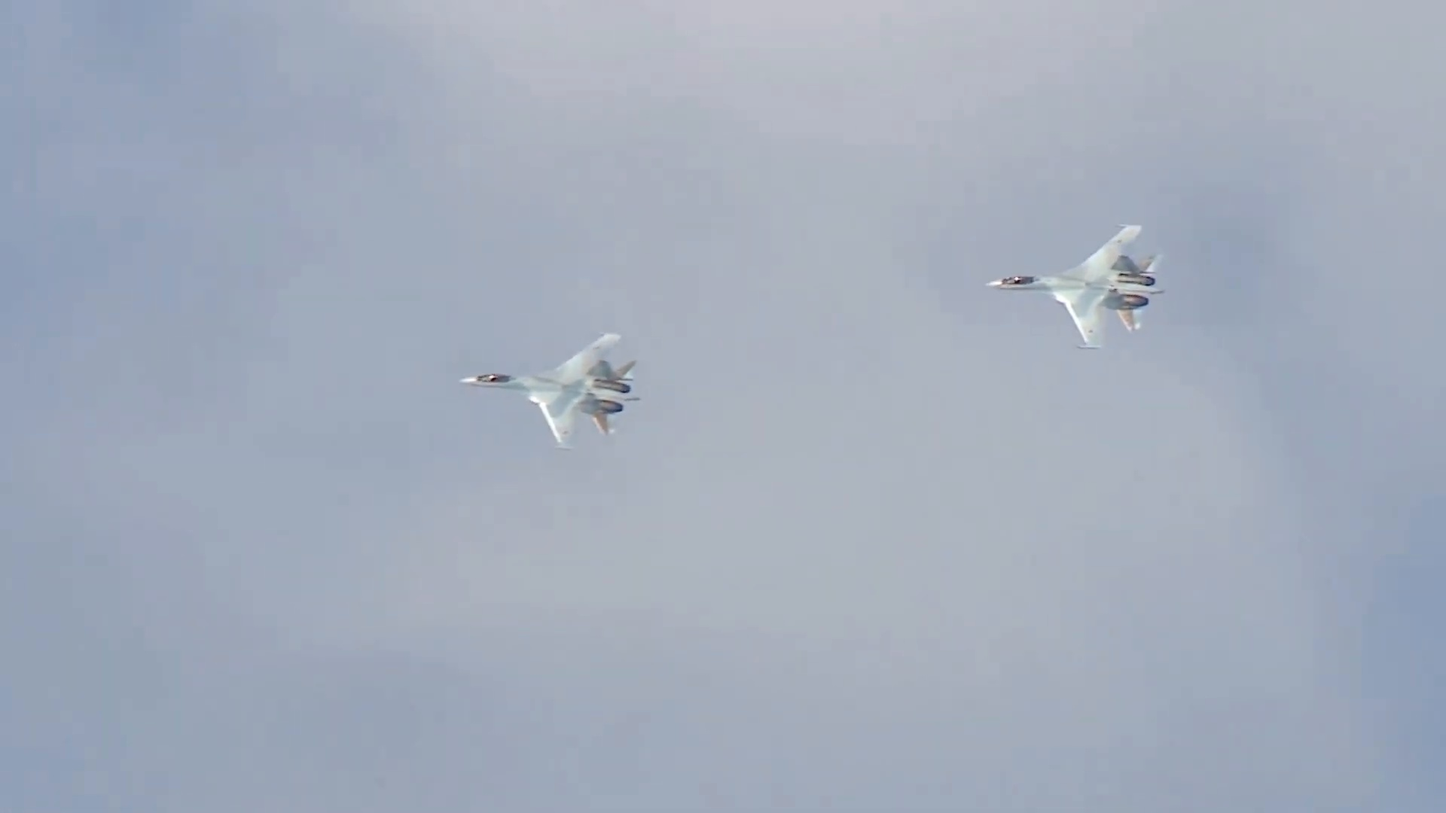Su35: (987, 225, 1169, 350), (460, 333, 643, 446)
